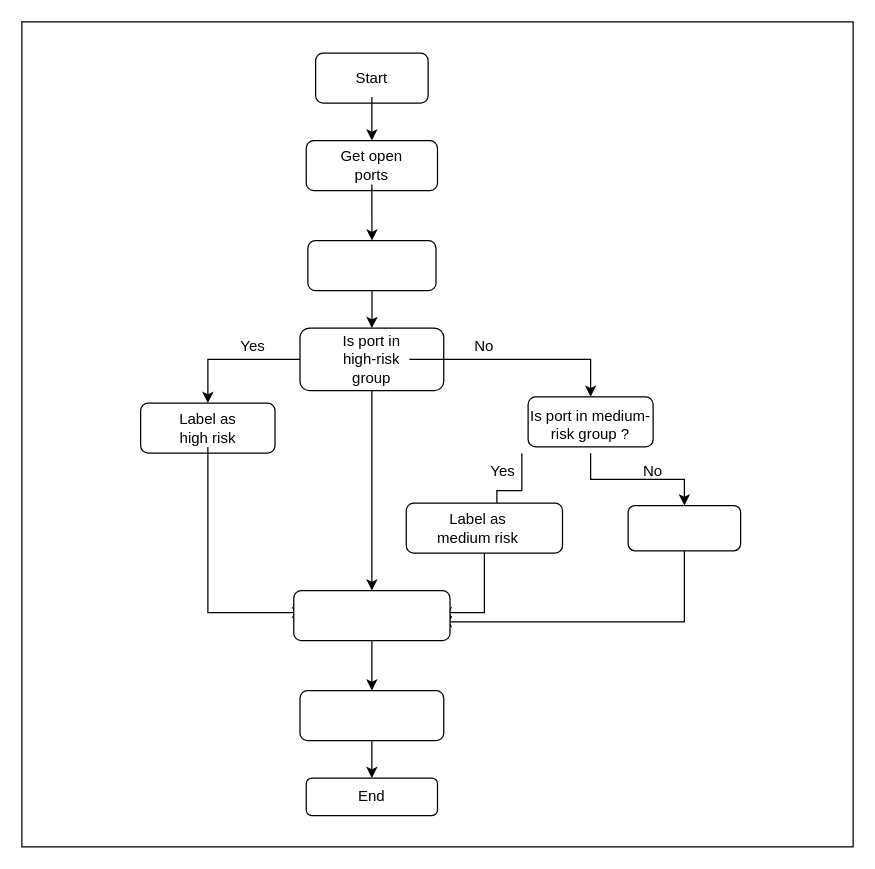
Some shapes in this 875 by 869 pixel diagram are drawn without their labels. The shapes that lost their labels are listed below. From the top down, each one's centre as x and y in pixels, then its label:
(371,265): For each open port
(684,527): Label as low risk
(371,615): Store labelled result
(371,715): Display risk report
